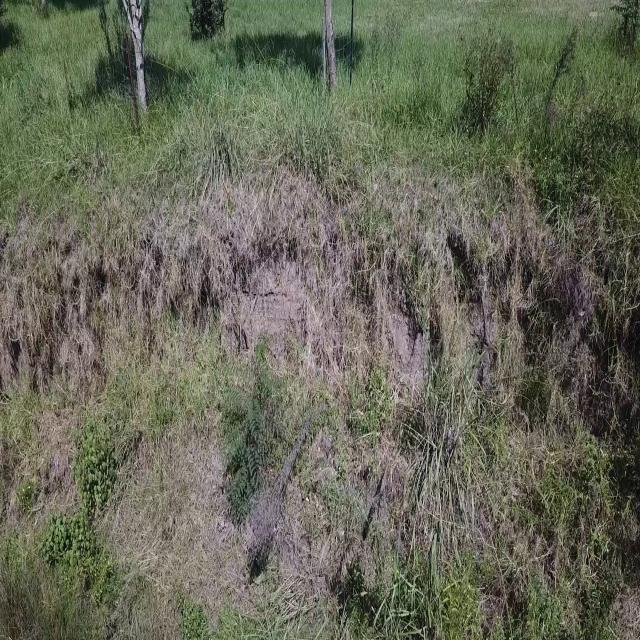Mysore-Thorn-Weed: (216, 340, 276, 515)
